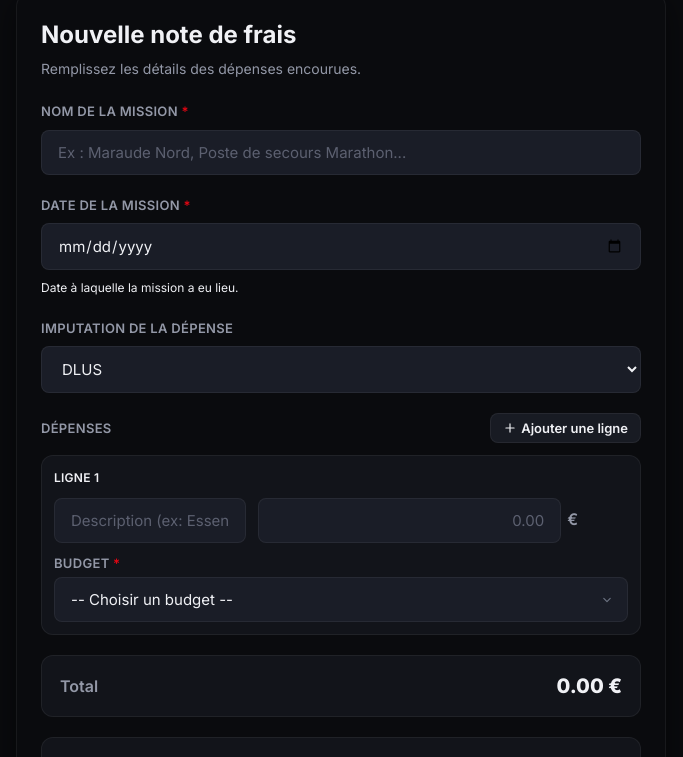
Test: ExpenseForm › exige la déclaration sur l'honneur ou une photo si remboursement demandé sans justificatif
Type "Maraude Nord" into the field labelled "Nom de la mission *". click: (341, 152)
box: [41,130,641,175]
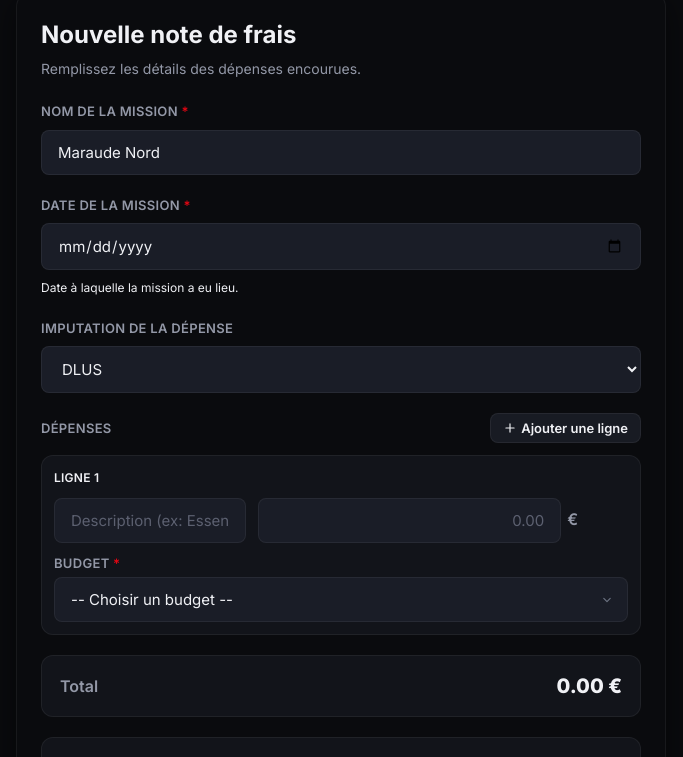
Type "2026-03-12" into the date field labelled "Date de la mission *". click: (341, 247)
box: [41,223,641,270]
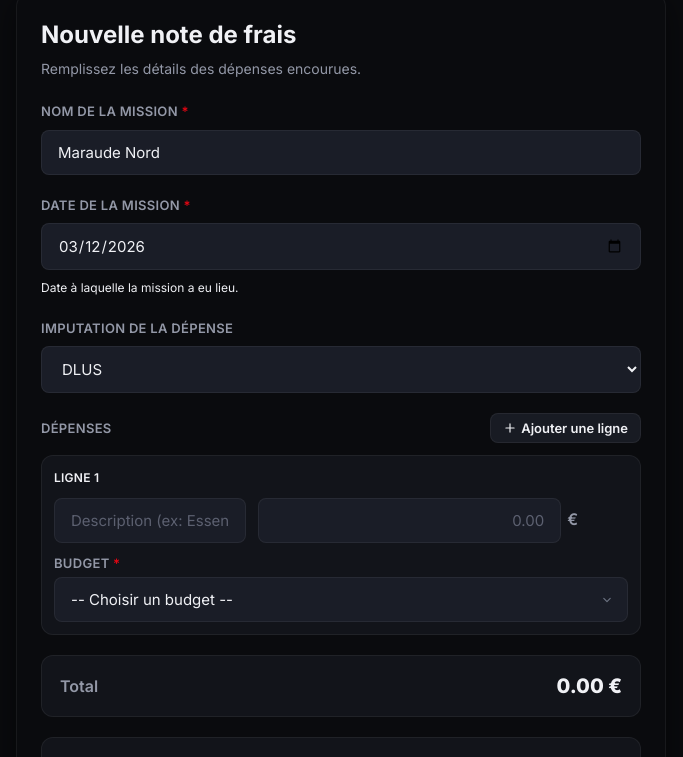
Type "Péage" into the field with placeholder "Description (ex: Essence, Billet de train...)". click: (150, 520)
box: [54,498,246,542]
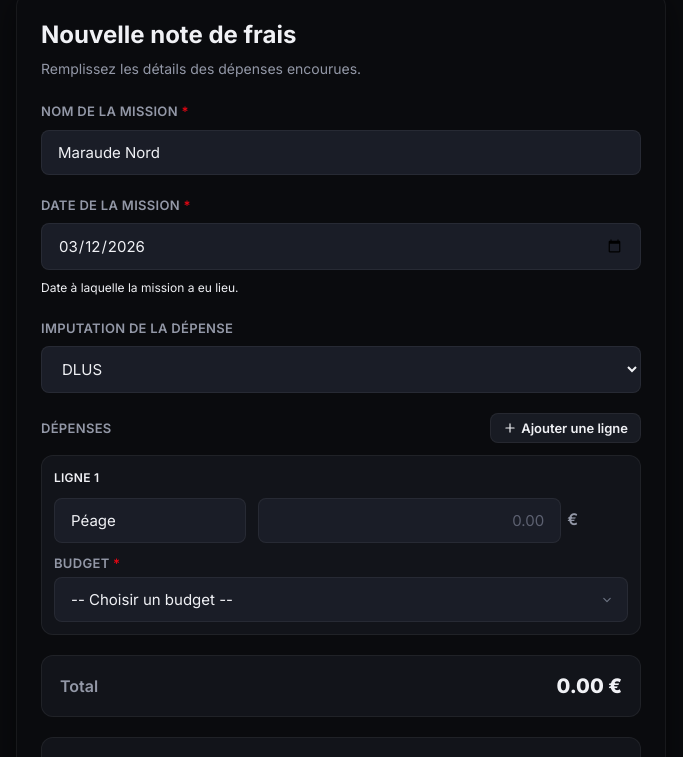
Type "20" into the field with placeholder "0.00". click: (410, 520)
box: [258,498,561,542]
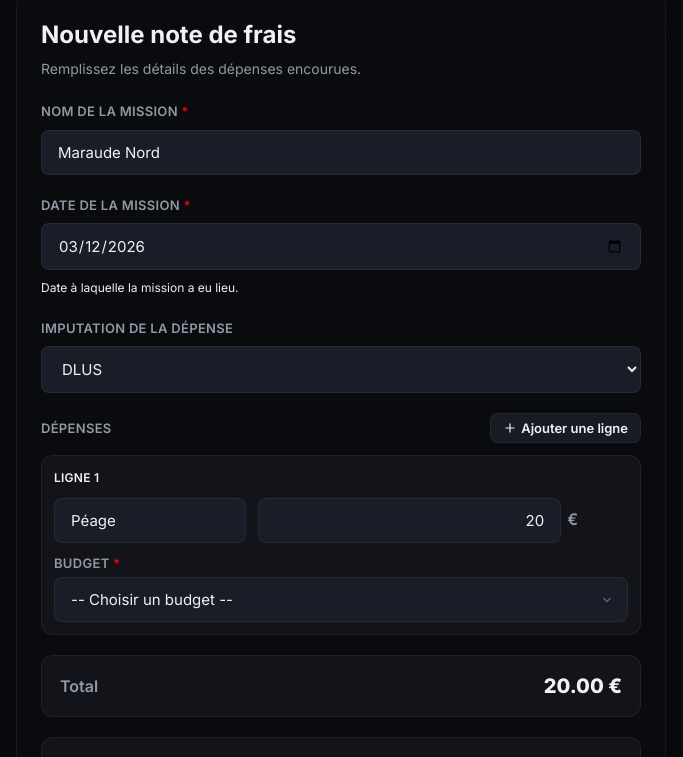
Select "Repas" in the dropdown labelled "Budget *". click: (341, 600)
box: [54,577,628,622]
(page scrolled)
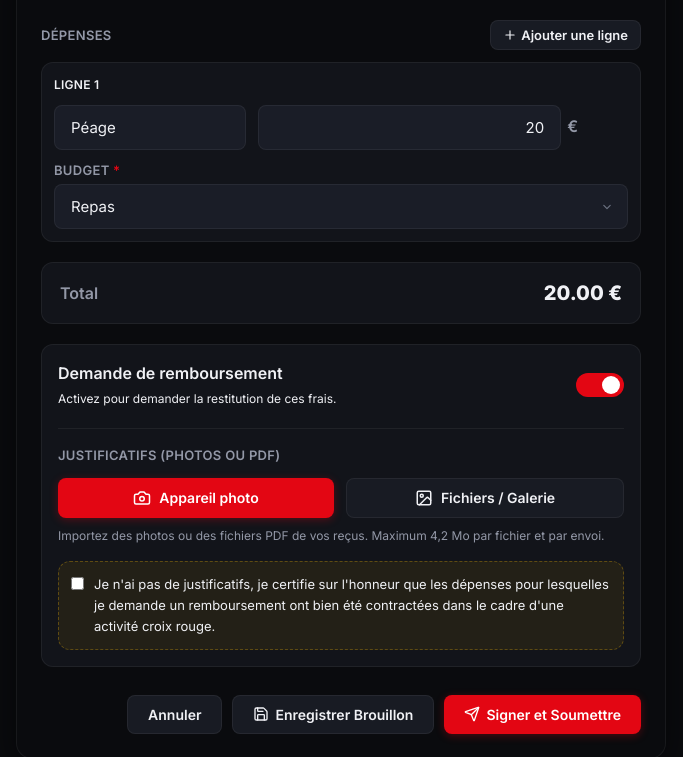
Click the button "Enregistrer Brouillon". click: (333, 714)
box: [232,694,434,734]
(page scrolled)
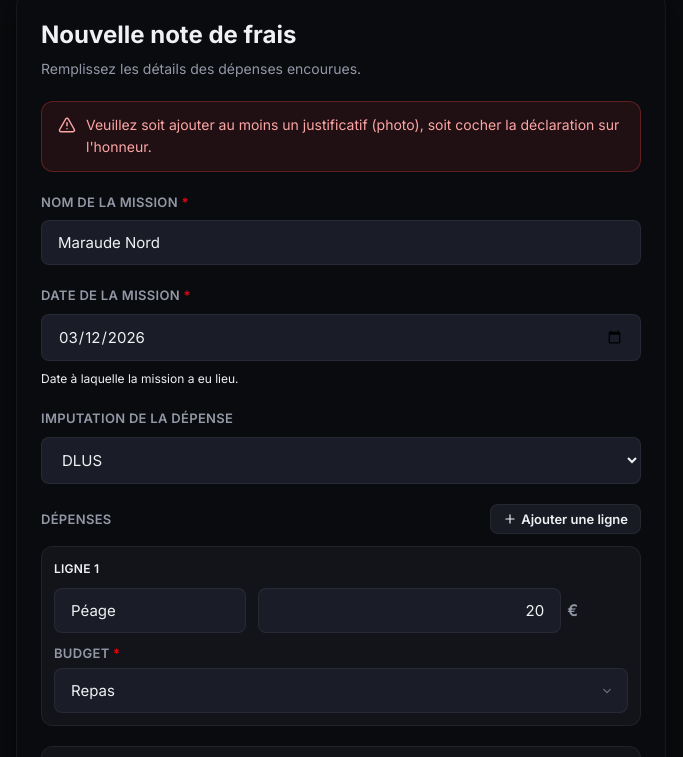
Check: the text "Veuillez soit ajouter au moins un justificatif" is shown, box [86,116,619,155]
